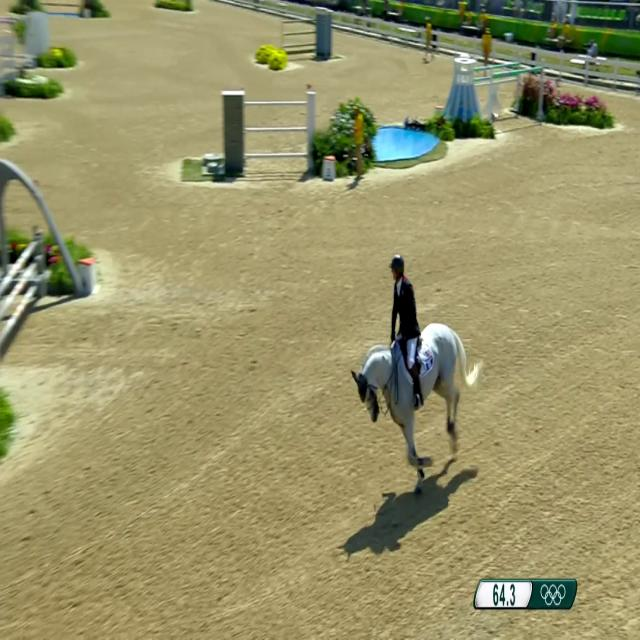Horse Rider: (376, 237, 433, 418)
Horse Running: (336, 321, 492, 504)
